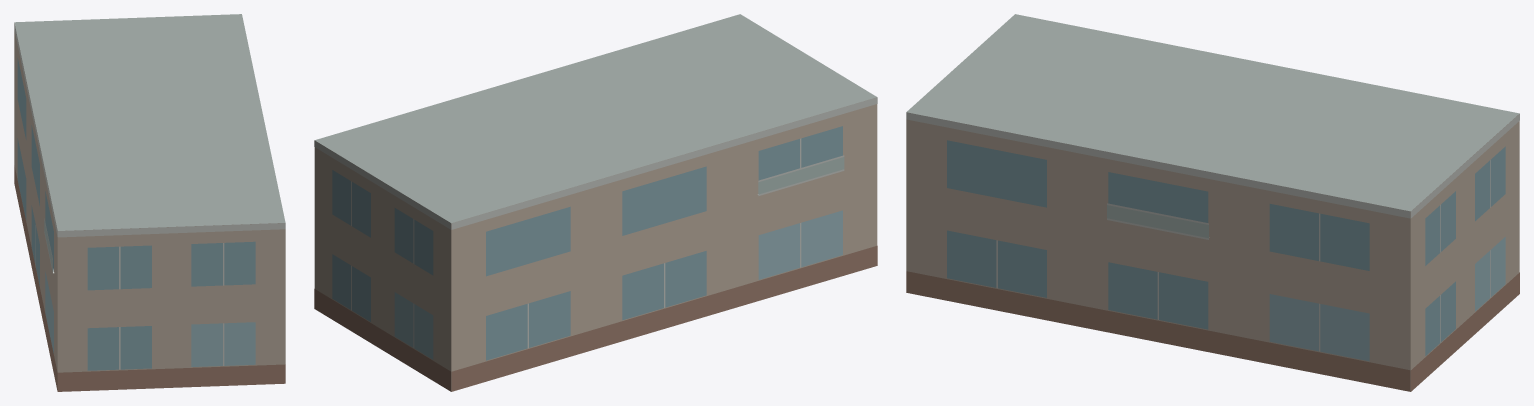
File: survey-upis-32697217.glb
3 renders of one model, left to right at view 1: azimuth 30°, elevation 25°; view 2: azimuth 150°, elevation 25°; view 3: azimuth 270°, elevation 25°, orthographic. The views are drawn at different scales.
Visible parts, largest first — view 1: survey-upis-32697217.tmp; view 2: survey-upis-32697217.tmp; view 3: survey-upis-32697217.tmp.
Part boxes in pixels (left/top/right/bottom): survey-upis-32697217.tmp: left=14, top=14, right=285, bottom=391; survey-upis-32697217.tmp: left=314, top=14, right=877, bottom=391; survey-upis-32697217.tmp: left=906, top=14, right=1519, bottom=391.
Bounding box in the file's own units: 14.32 × 6.1 × 18.81.
